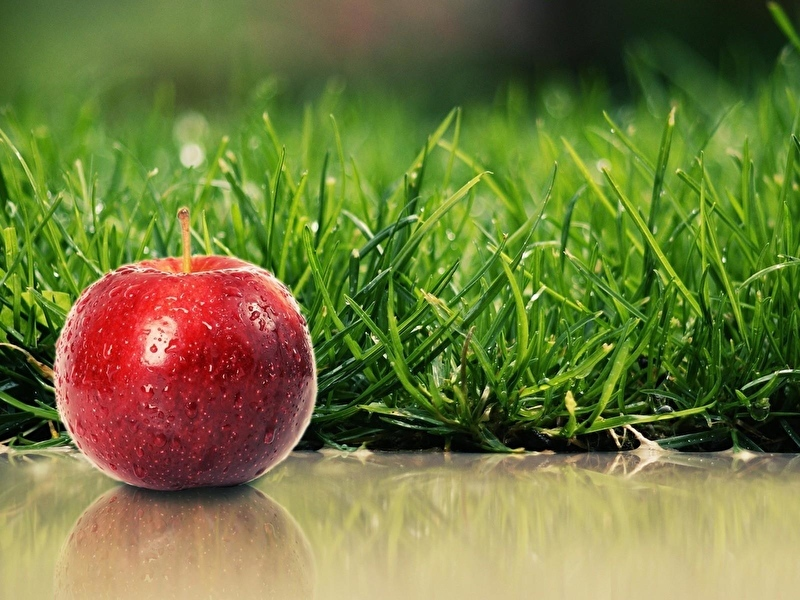apple: (50, 242, 320, 497)
